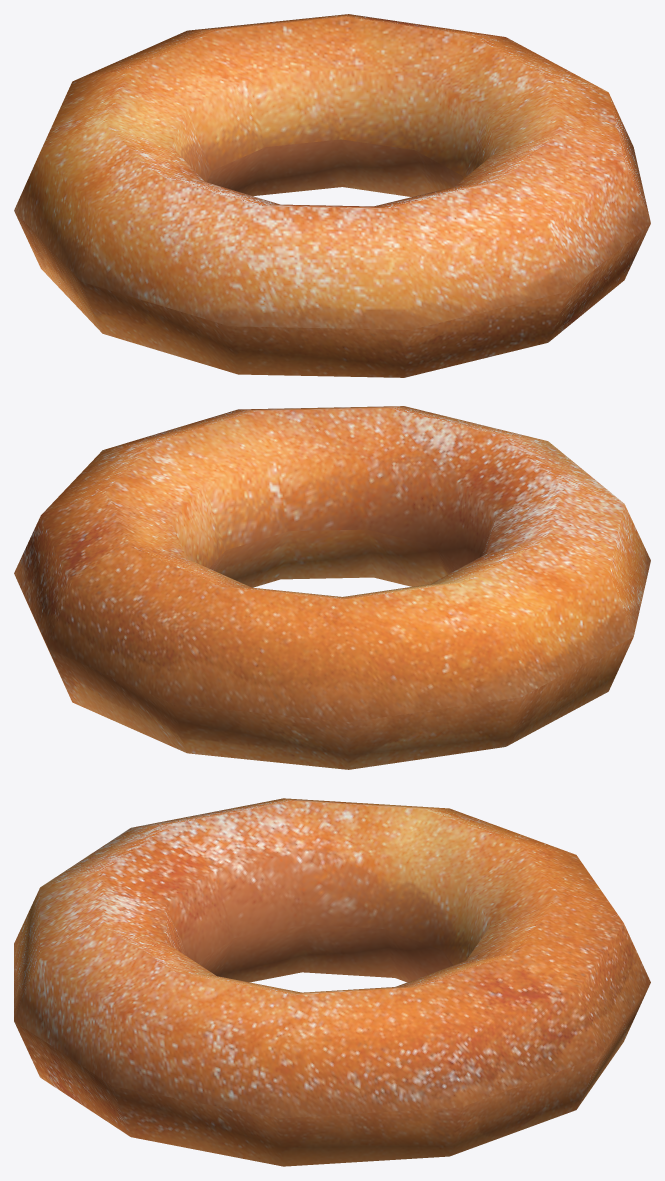
Rendered from Donut.FBX.
3 views of the same model, one above another, from view 1: azimuth 30°, elevation 25°; view 2: azimuth 150°, elevation 25°; view 3: azimuth 270°, elevation 25° (orthographic).
Visible parts, largest first — view 1: Torus001; view 2: Torus001; view 3: Torus001.
Boxes of the visible parts, box(x1,y1,x2,y2) form: Torus001: box(14, 14, 650, 377); Torus001: box(14, 406, 650, 769); Torus001: box(14, 798, 650, 1166).
Size of the model in its own units: 81.96 by 23.66 by 81.12.
Materials: 1 (1 with a texture image).
